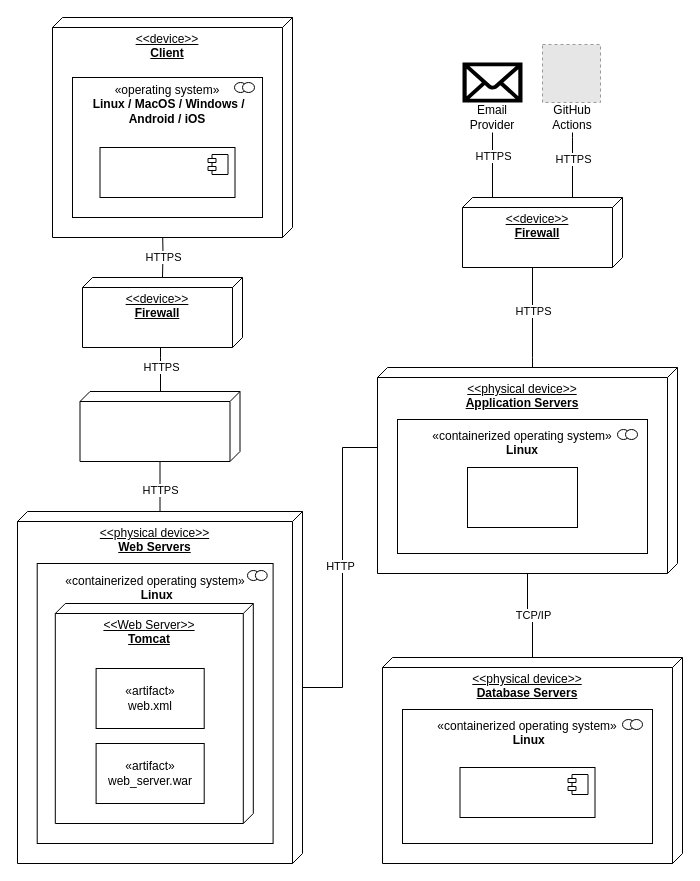
Some shapes in this 700 by 881 pixel diagram are drawn without their labels. Grey dashed boxes stand in for pictures. Each missing label, with the centre of its shape:
<<device>> Load Balancer: the point at 159,426
Browser: the point at 167,172
DBMS: the point at 527,792
«artifact» Spring Services: the point at 522,497
